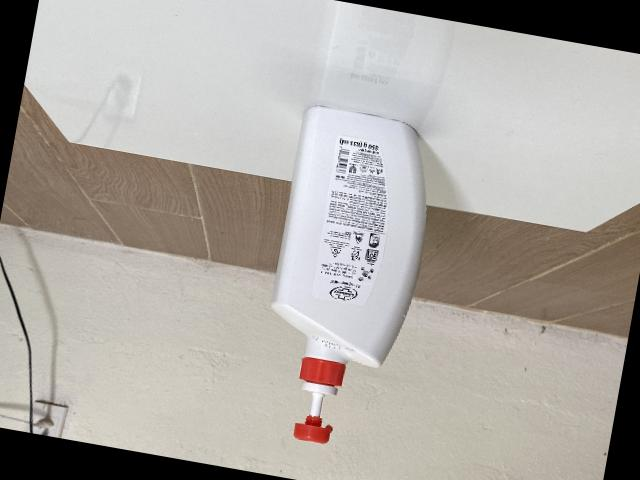life-buoy: (270, 102, 426, 442)
